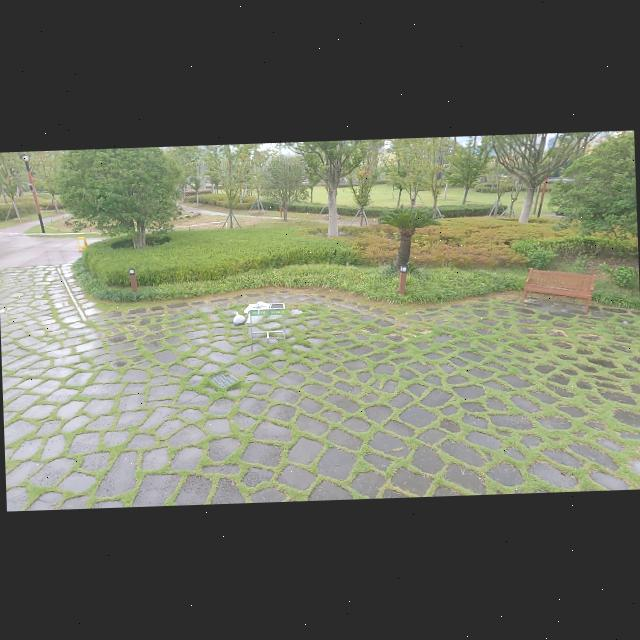trash: (243, 300, 270, 312), (230, 309, 246, 325), (245, 308, 262, 323)
